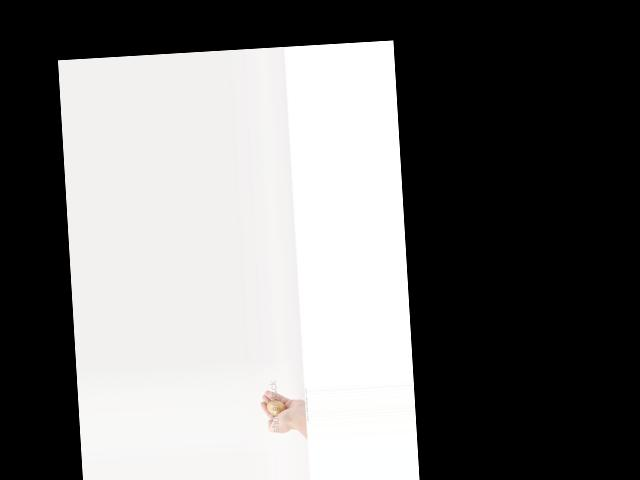egg: (267, 399, 286, 415)
